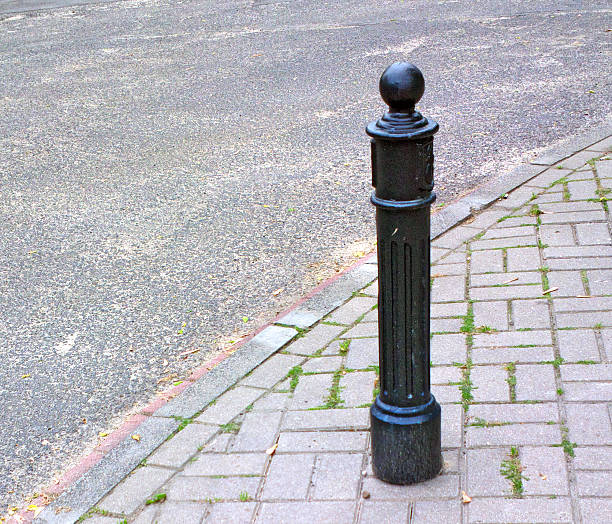bollard: (359, 54, 456, 492)
